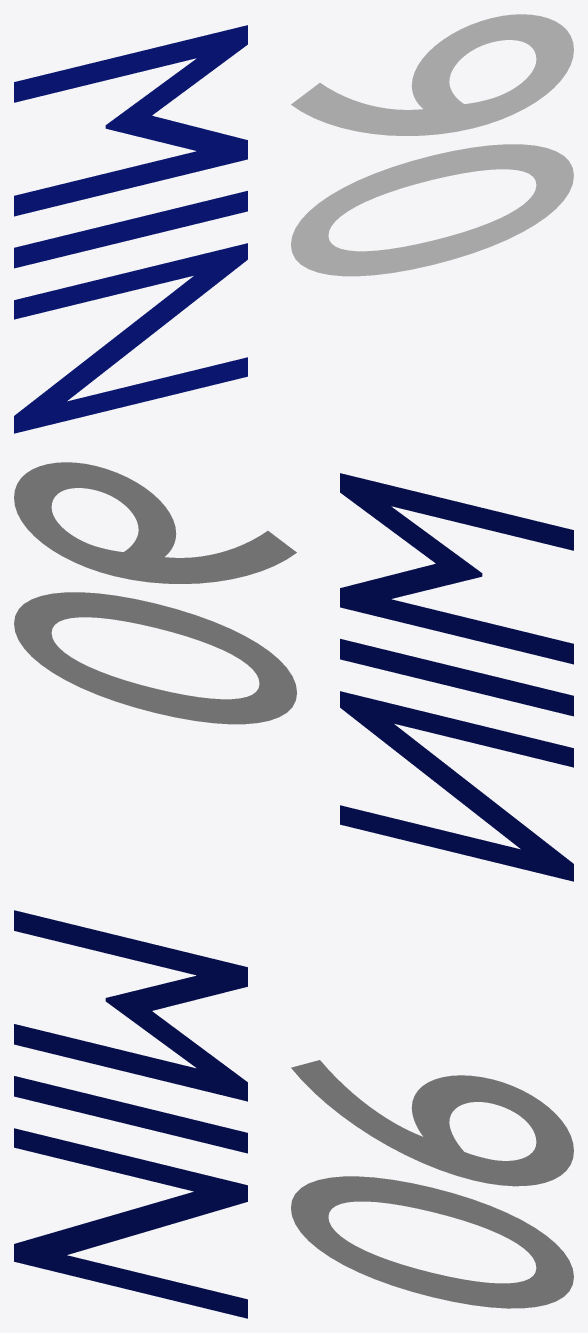
Rendered from 地面标识-限速下限90.gltf.
The picture shows the model from 3 angles, top to bottom: view 1: azimuth 30°, elevation 25°; view 2: azimuth 150°, elevation 25°; view 3: azimuth 330°, elevation 25°; orthographic projection.
Visible parts, largest first — view 1: 文本.002, 文本; view 2: 文本.002, 文本; view 3: 文本.002, 文本.
Part boxes in pixels (x1,y1,x2,y2): 文本.002: (14, 25, 247, 433); 文本: (291, 14, 573, 276); 文本.002: (340, 473, 573, 881); 文本: (14, 462, 296, 724); 文本.002: (14, 910, 247, 1318); 文本: (291, 1060, 573, 1308).
Size of the model in its own units: 3.4 by 2.04 by 8.08e-07.
